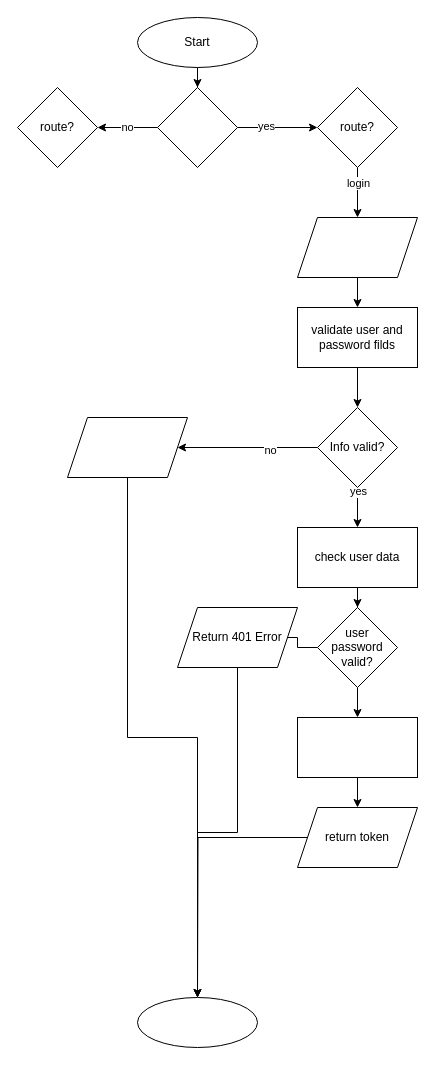
The diagram is 435 pixels wide and 1065 high, and some of its shapes have lost their labels. The shapes that lost their labels are listed below. From the top down, each one's centre as x and y in pixels, then its label:
At (197,127): "Is Guest".
At (357,247): "get user and password".
At (127,447): "Return 422 Error".
At (357,747): "generate token".
At (197,1022): "end".
